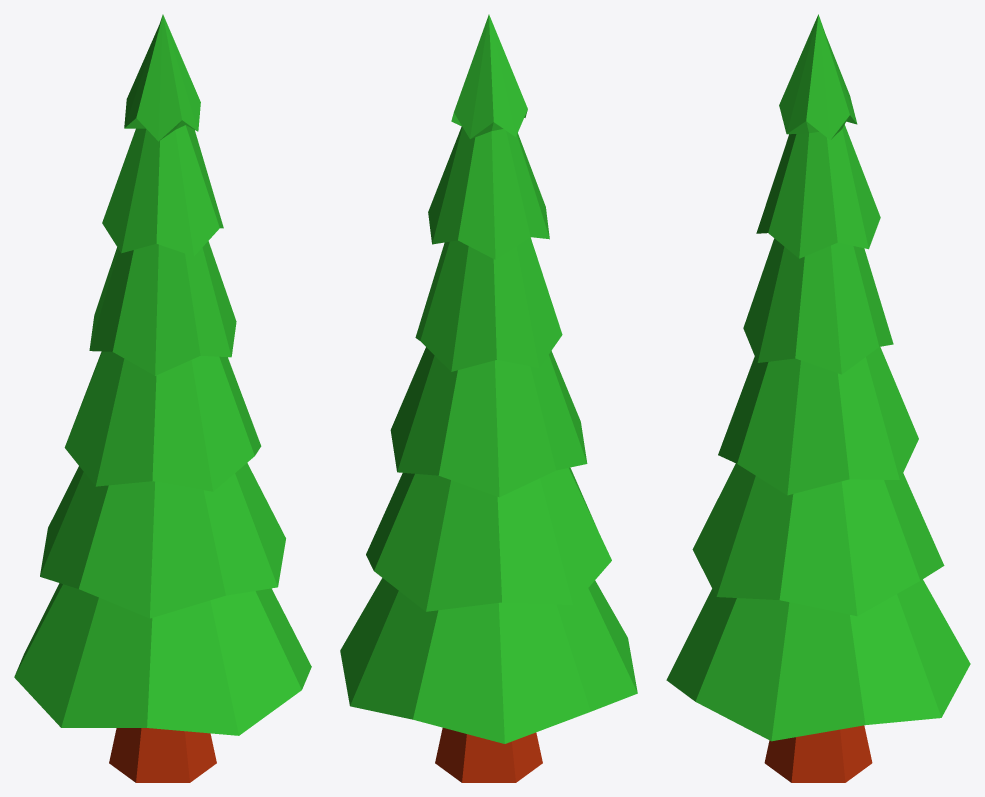
The model's file is tree5.obj.
3 renders of one model, left to right at view 1: azimuth 30°, elevation 25°; view 2: azimuth 150°, elevation 25°; view 3: azimuth 270°, elevation 25°, orthographic.
Parts seen in each view (by area): view 1: Cylinder, Cylinder.001; view 2: Cylinder, Cylinder.001; view 3: Cylinder, Cylinder.001.
Boxes of the visible parts, bbox=[...] form: Cylinder: bbox=[14, 14, 311, 735]; Cylinder.001: bbox=[109, 728, 216, 782]; Cylinder: bbox=[340, 14, 637, 743]; Cylinder.001: bbox=[435, 728, 542, 782]; Cylinder: bbox=[666, 14, 970, 741]; Cylinder.001: bbox=[764, 725, 872, 782].
Bounding box in the file's own units: 5.36 × 15.31 × 5.64.
